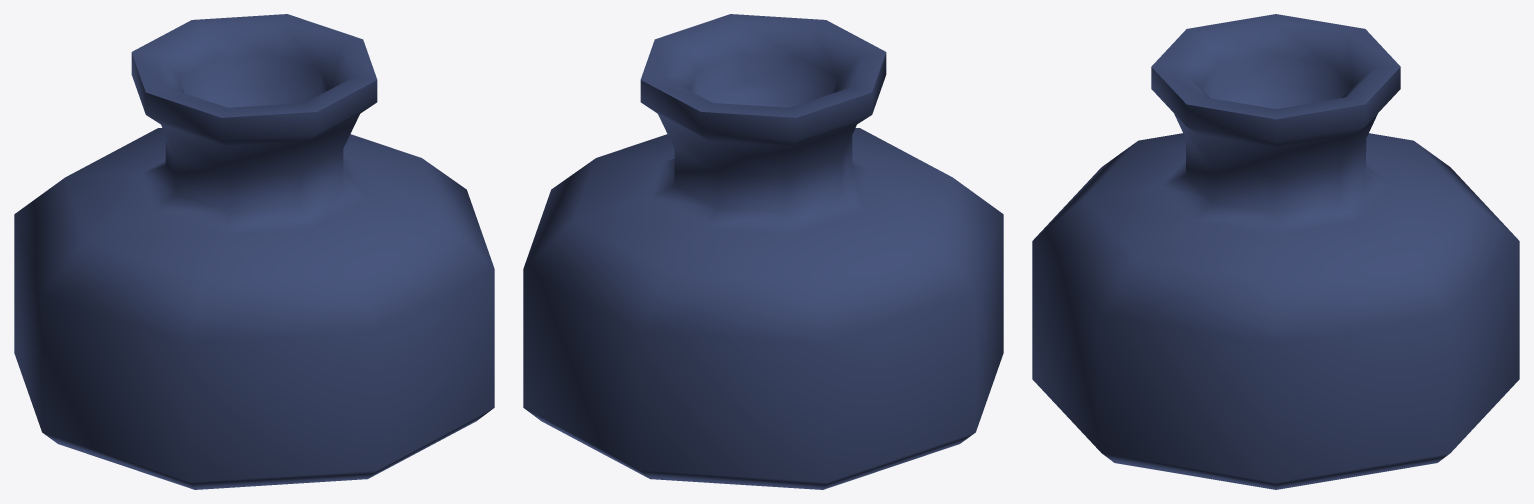
The model's file is Pot.fbx.
3 renders of one model, left to right at view 1: azimuth 30°, elevation 25°; view 2: azimuth 150°, elevation 25°; view 3: azimuth 270°, elevation 25°, orthographic.
Visible parts, largest first — view 1: Pot; view 2: Pot; view 3: Pot.
Part boxes in pixels (x1,y1,x2,y2): Pot: (14, 14, 494, 489); Pot: (523, 14, 1003, 489); Pot: (1032, 14, 1519, 489).
Bounding box in the file's own units: 0.7931 × 0.5892 × 0.793.
